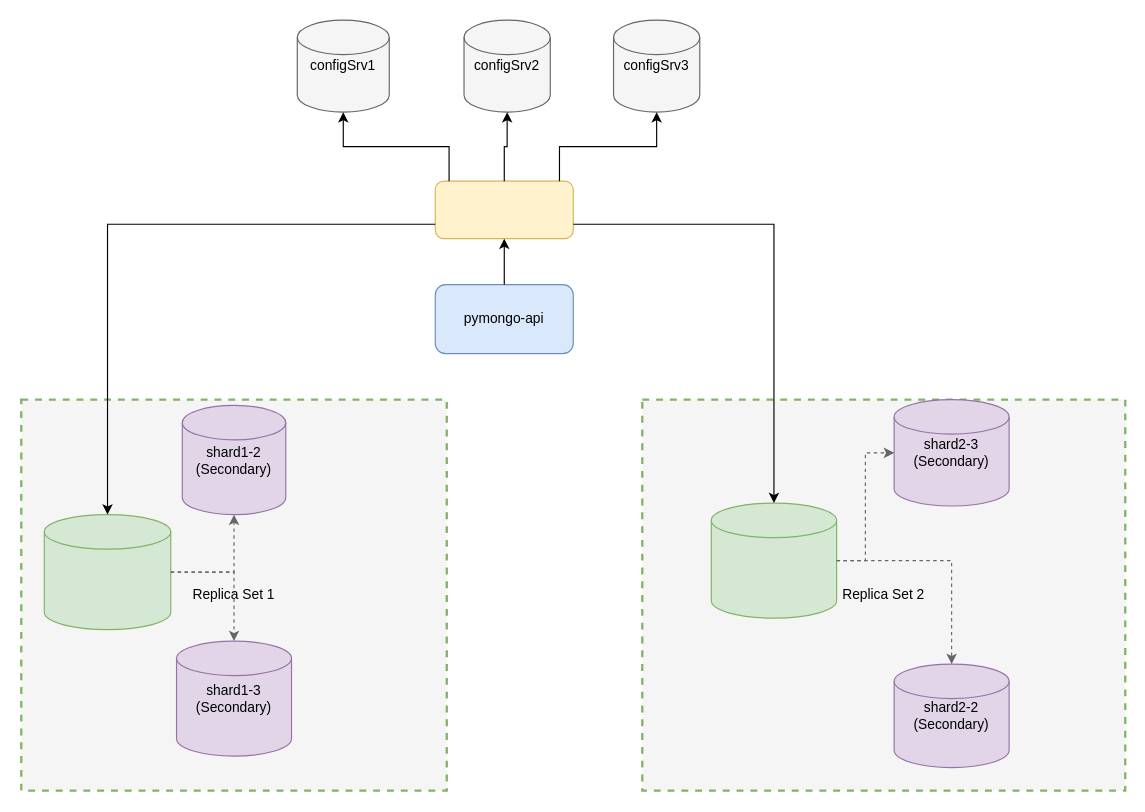
Image size: 1145x812. Some labels were removed from this diagram. Each missing label, with the centre of its shape:
MongoDB shard1-1 (Primary): (107,571)
MongoDB shard2-1 (Primary): (773,560)
mongos-router: (503,209)
